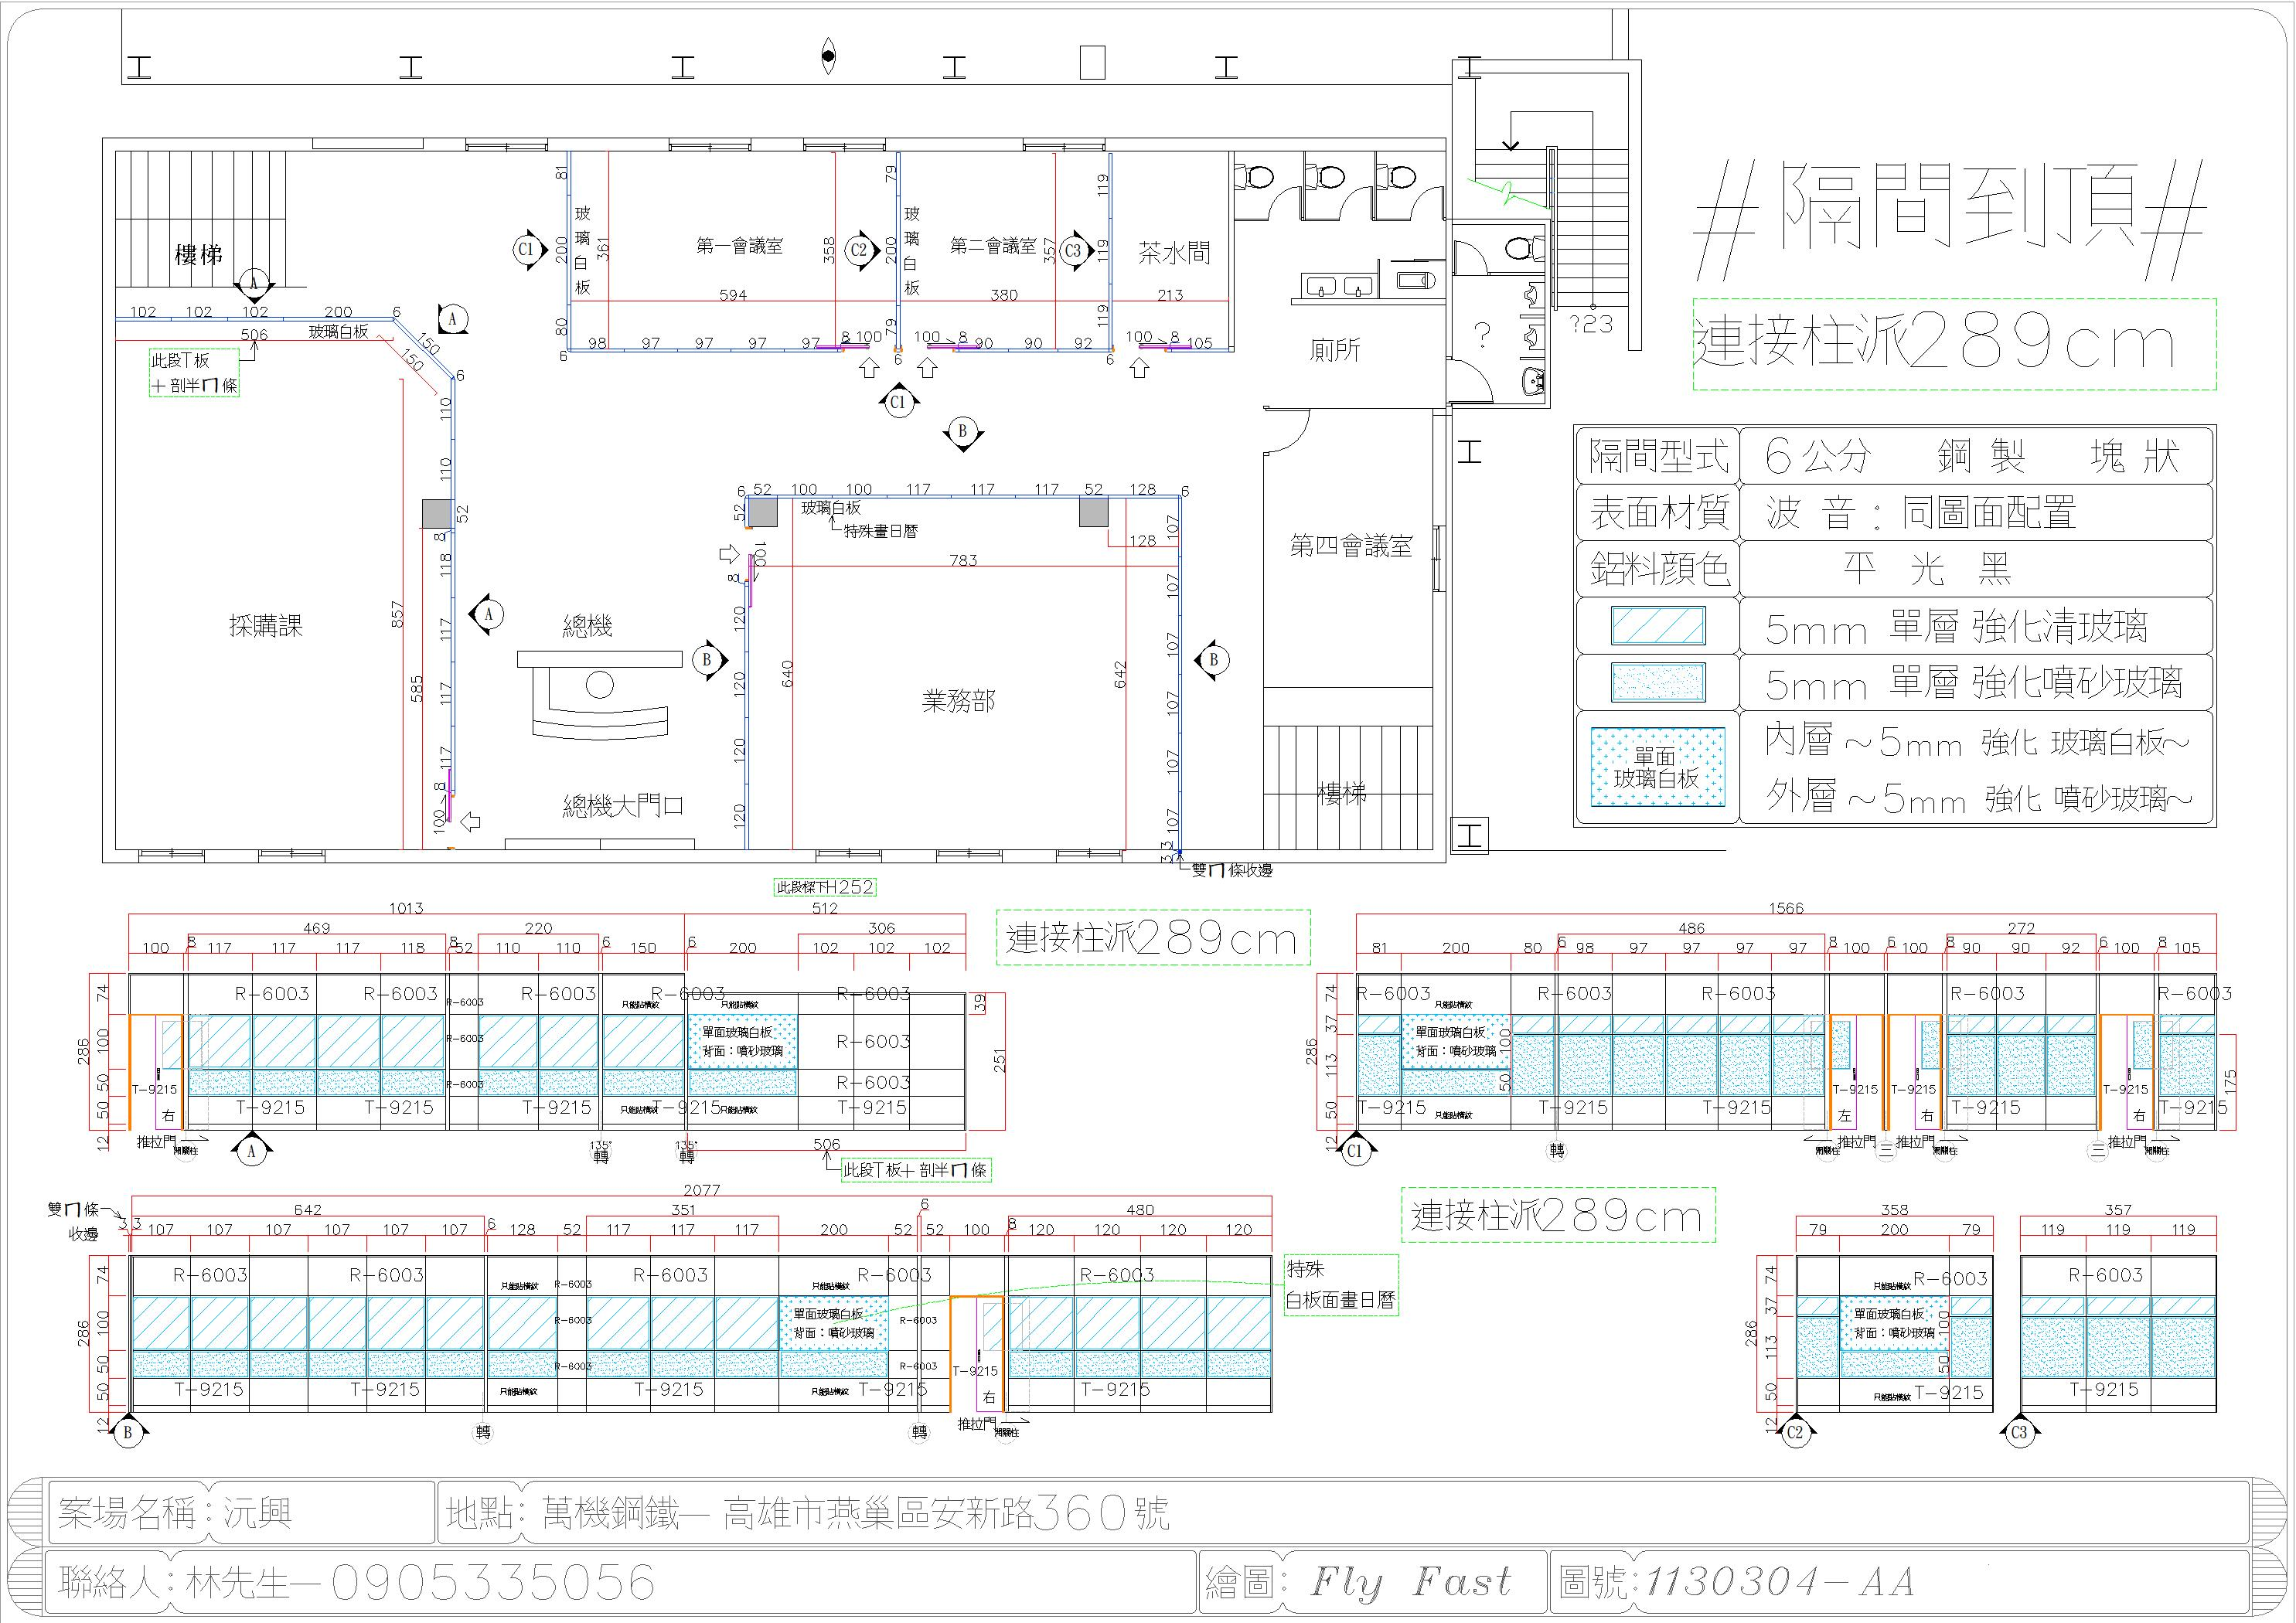GSP: (603, 1068, 685, 1098)
SG: (538, 1012, 599, 1068)
WB: (687, 1013, 798, 1070)
